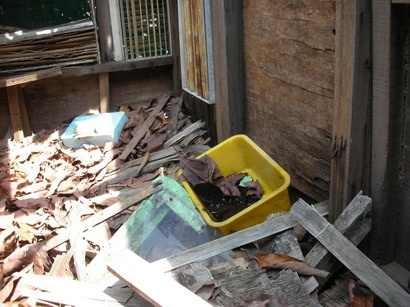box: (176, 131, 294, 237), (59, 112, 127, 146)
